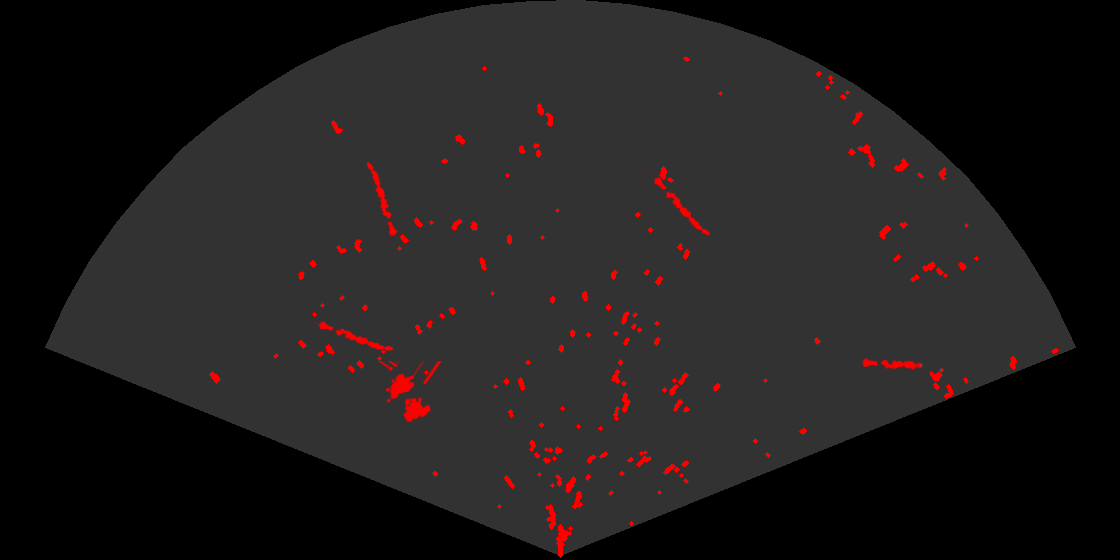cage: (376, 361, 444, 424)
chain: (646, 170, 712, 237), (312, 320, 396, 353), (365, 160, 399, 238), (861, 356, 946, 374)
